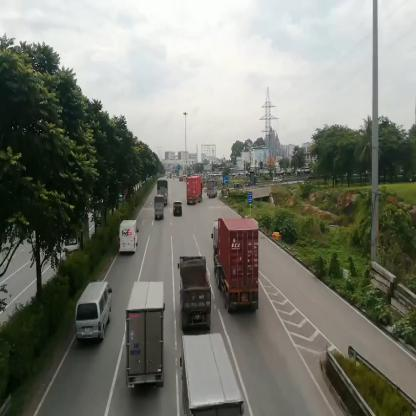car: (77, 281, 113, 340), (120, 221, 138, 253), (174, 201, 183, 219)
container: (215, 220, 260, 312), (187, 178, 204, 205)
truck: (183, 337, 250, 416), (126, 283, 165, 389), (181, 258, 212, 332), (155, 197, 166, 221), (158, 178, 169, 199), (208, 182, 219, 198)
